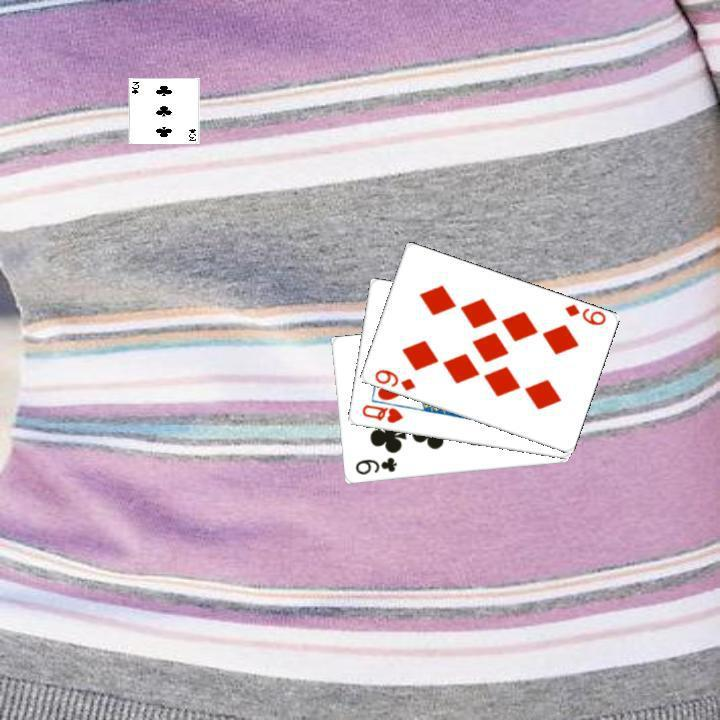9: (560, 300, 608, 328), (370, 365, 417, 393), (350, 453, 399, 477)
Q: (357, 401, 405, 425)
